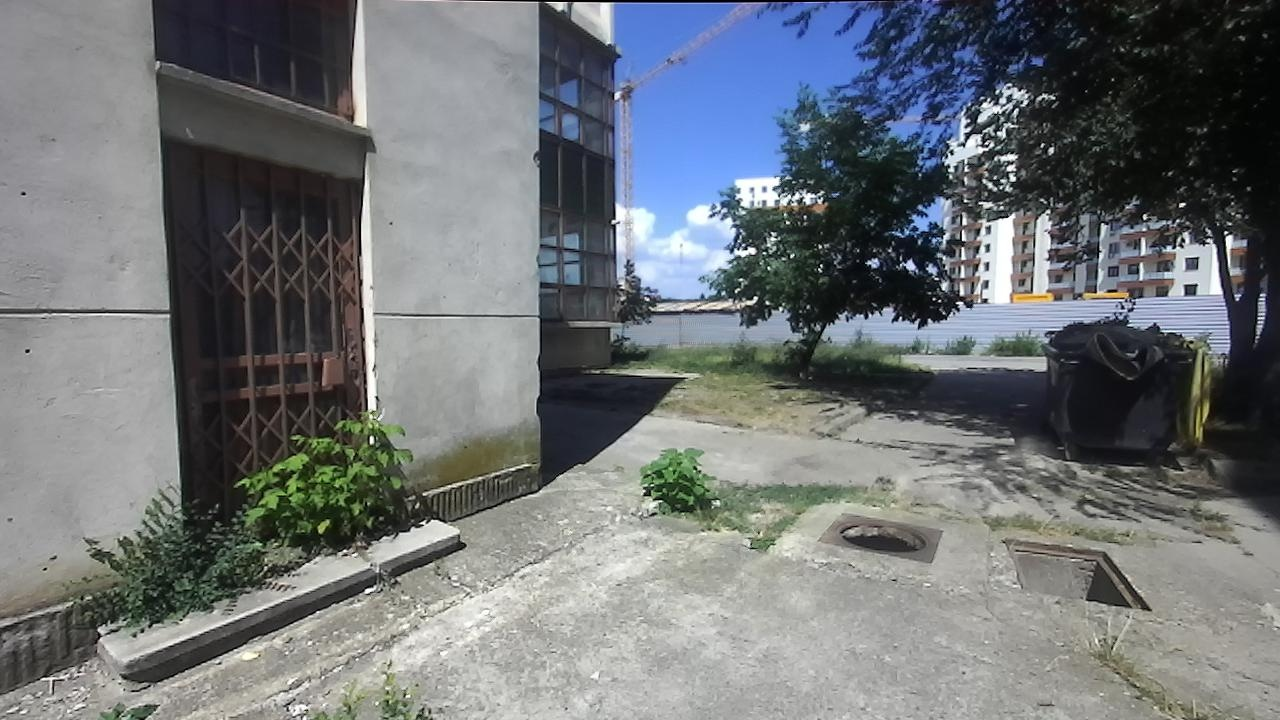drain: (1002, 537, 1159, 617), (830, 516, 934, 558)
